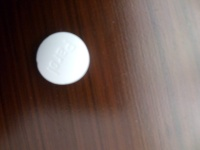Parol: (34, 31, 93, 87)
